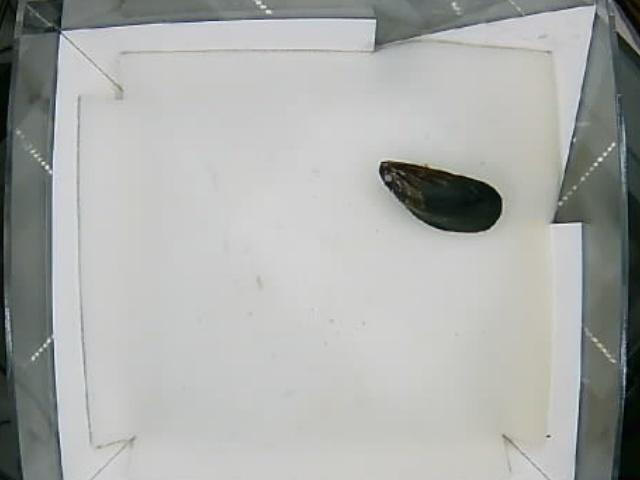Shell: (376, 159, 503, 234)
